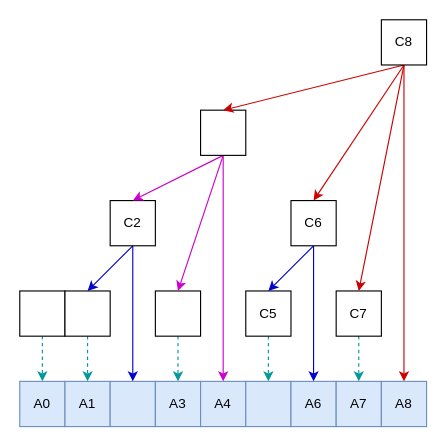
This 446x446 diagram has some shape labels left out. The box of each missing label's shape, as (x1, y1, x2, y2) in pixels:
A2: (109, 380, 155, 427)
A5: (245, 380, 291, 427)
C0: (19, 290, 65, 336)
C1: (64, 290, 110, 336)
C3: (154, 290, 201, 336)
C4: (199, 109, 246, 155)
